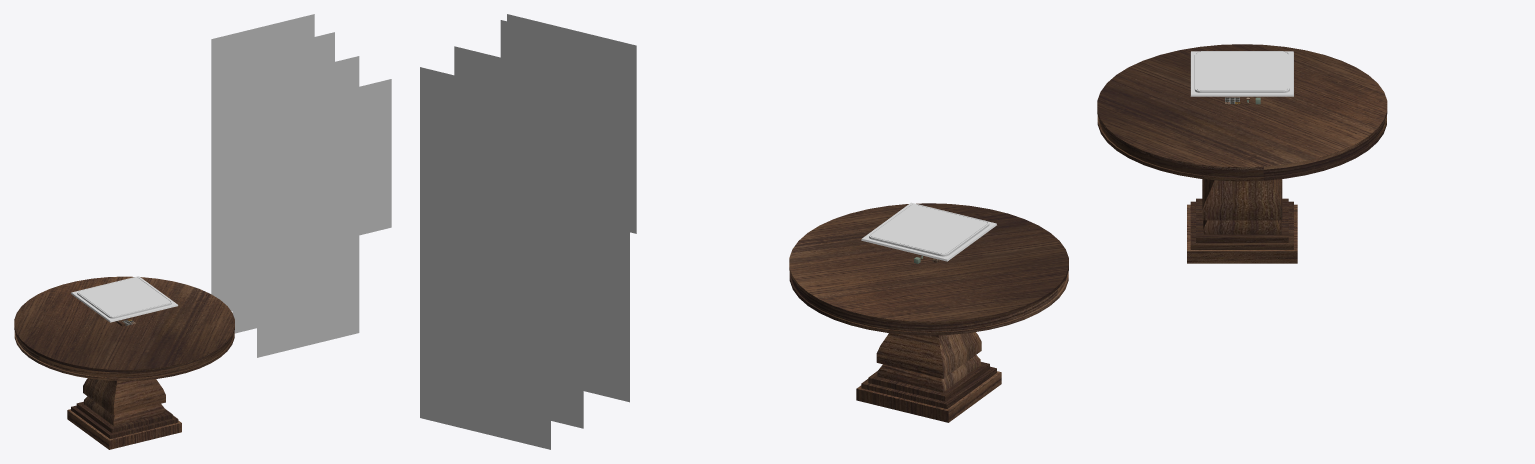
Rendered from board_good_normals.fbx.
3 renders of one model, left to right at view 1: azimuth 30°, elevation 25°; view 2: azimuth 150°, elevation 25°; view 3: azimuth 270°, elevation 25°, orthographic. The views are drawn at different scales.
Visible parts, largest first — view 1: table, Plane.004, Plane.003, Plane.001, Plane.002, playing field; view 2: Plane.002, table, Plane.004, Plane.001, playing field, Plane.003; view 3: table, playing field.
Part boxes in pixels (left/top/right/bottom): table: left=14, top=276, right=234, bottom=449; Plane.004: left=257, top=56, right=359, bottom=357; Plane.003: left=289, top=79, right=391, bottom=252; Plane.001: left=232, top=32, right=334, bottom=333; Plane.002: left=211, top=14, right=314, bottom=311; playing field: left=71, top=276, right=178, bottom=322; Plane.002: left=420, top=67, right=550, bottom=449; table: left=789, top=203, right=1068, bottom=422; Plane.004: left=500, top=20, right=629, bottom=402; Plane.001: left=454, top=46, right=583, bottom=428; playing field: left=861, top=202, right=996, bottom=261; Plane.003: left=507, top=14, right=636, bottom=233; table: left=1097, top=44, right=1387, bottom=263; playing field: left=1190, top=51, right=1293, bottom=96.
Bounding box in the file's own units: 23764 × 15890 × 16744.
